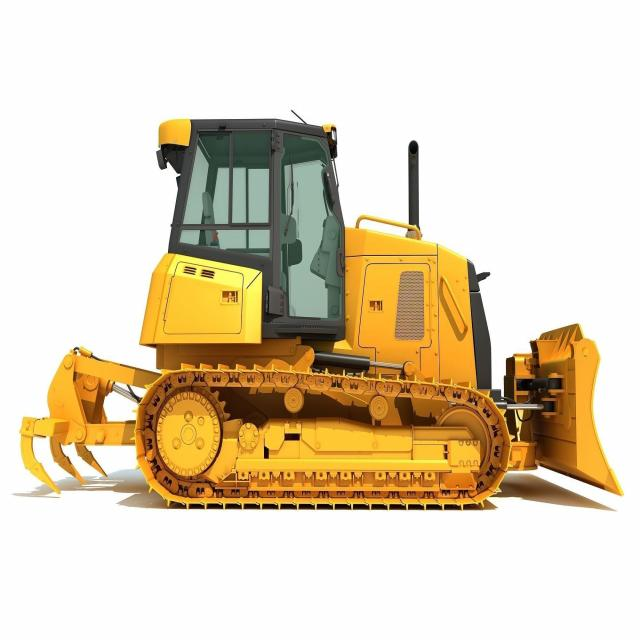Bulldozer: (10, 105, 640, 520)
